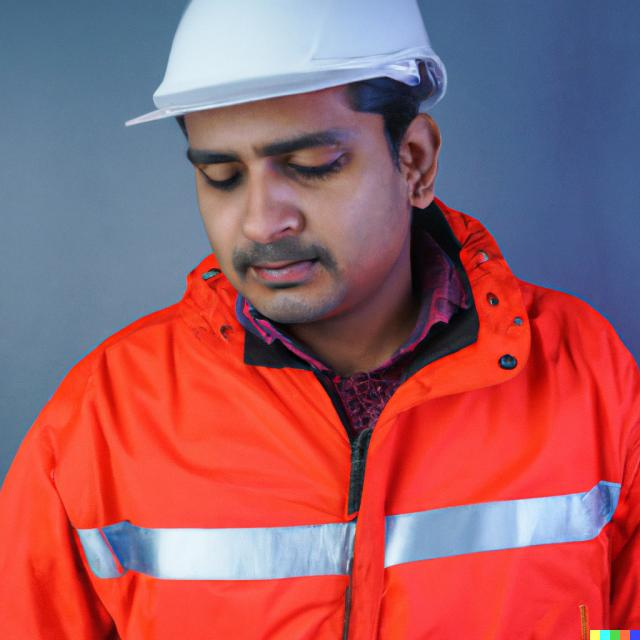Reflective-Jacket: (16, 239, 640, 640)
Safety-Helmet: (129, 3, 453, 129)
